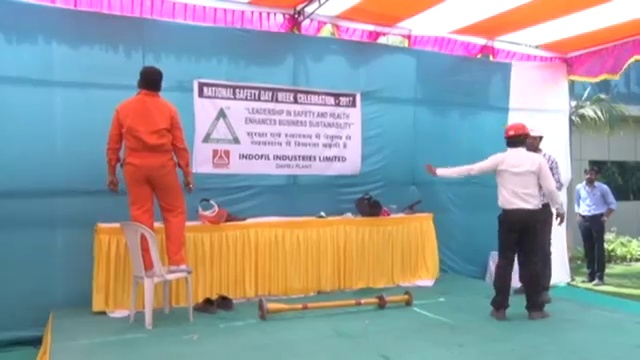helmet: (503, 121, 529, 136), (526, 124, 545, 140)
helmet_off: (135, 62, 164, 95), (582, 164, 599, 186)
helmet_on: (503, 120, 528, 153), (526, 124, 546, 156)
person: (425, 121, 565, 321), (104, 62, 196, 276), (528, 121, 570, 302), (568, 155, 620, 290)
